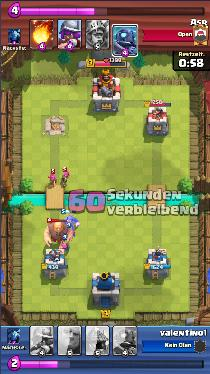ally_archer: (61, 244, 70, 253)
ally_knight: (64, 216, 80, 230)
enemy_archer: (47, 173, 58, 186), (61, 170, 69, 186)
enemy_giant: (44, 221, 73, 245)
